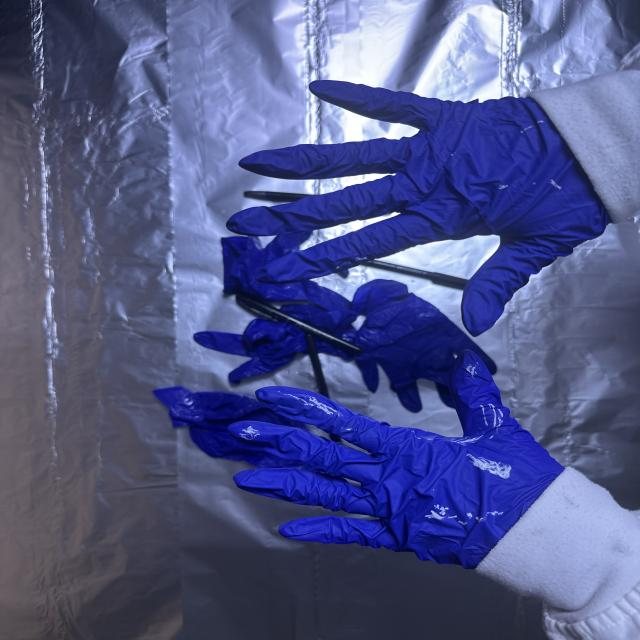gloves_contaminated: (230, 81, 609, 335), (266, 351, 562, 568)
